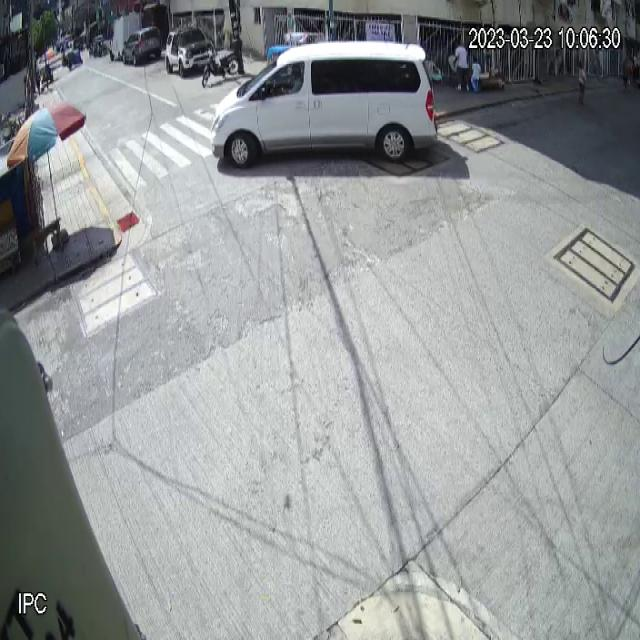Car: (211, 40, 438, 169)
